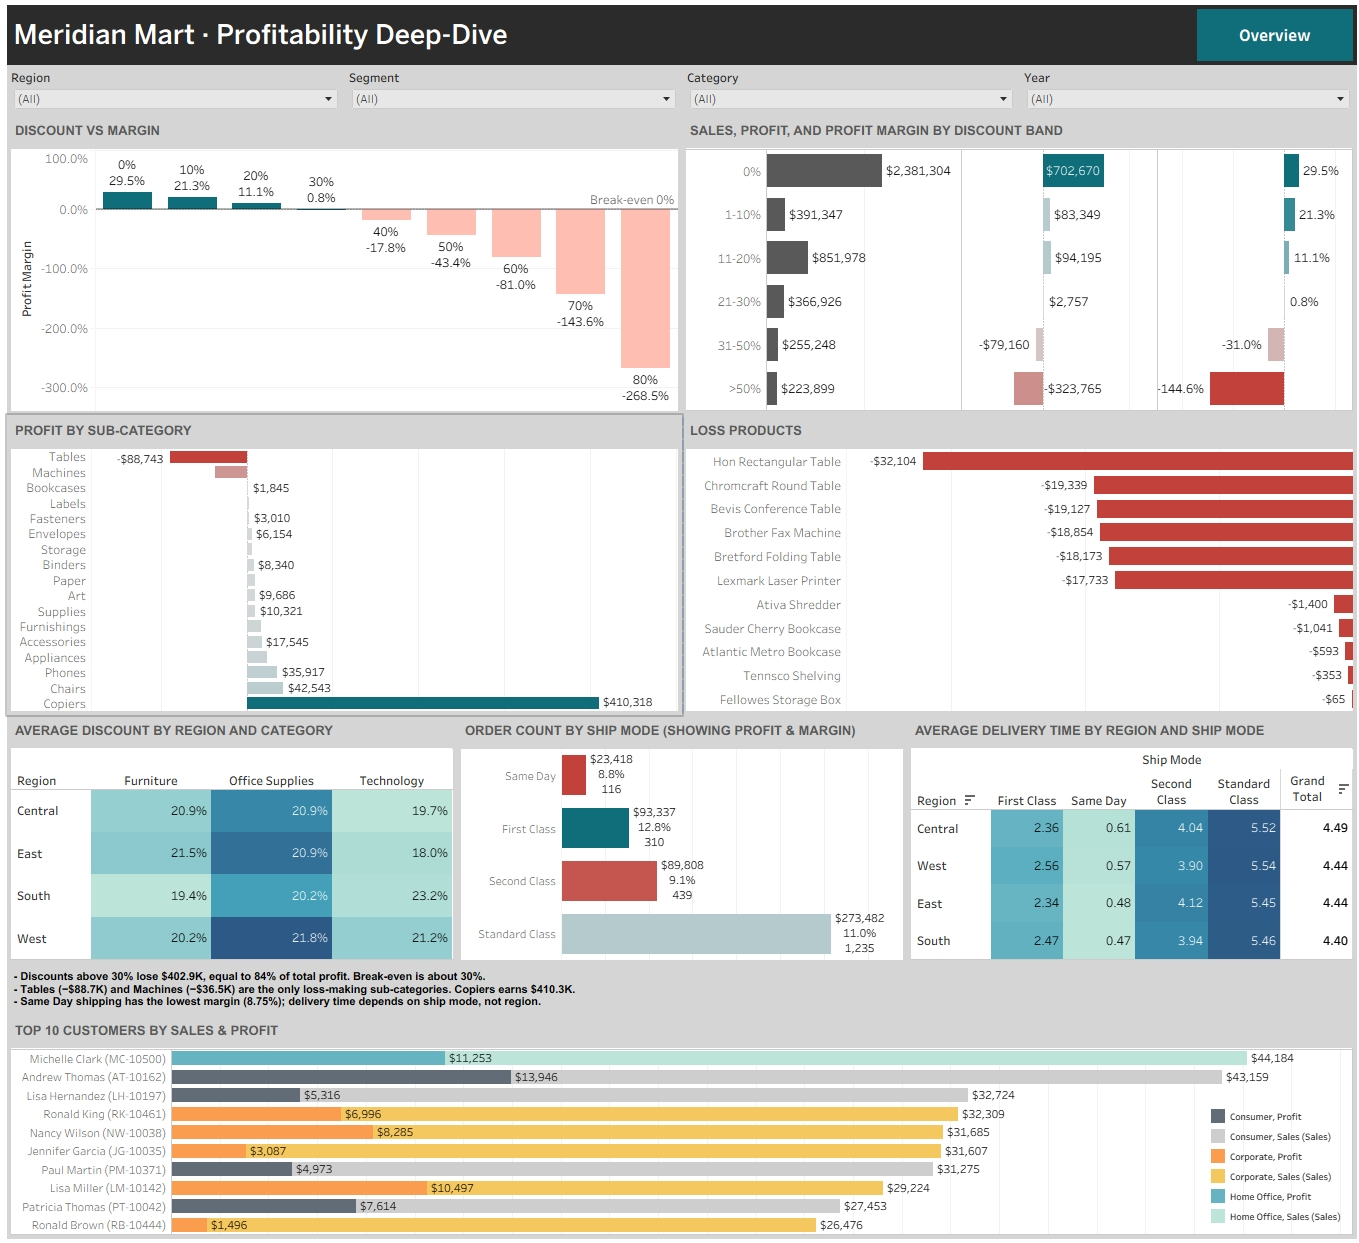

What the dashboard file says about the page in this screenshot:
{"tool":"tableau","page":{"name":"Deep Dive","canvas":[1366,1250],"ordinal":0},"visuals":[{"type":"text","box":[8,8,1186,60]},{"type":"dashboard-object","box":[1194,8,164,60]},{"type":"filter","title":"Discount vs Margin","param":"[federated.1s5vqj20c20fh211pelmb0asn3el].[none:Region:nk]","box":[8,68,338,50]},{"type":"filter","title":"Discount vs Margin","param":"[federated.1s5vqj20c20fh211pelmb0asn3el].[none:Segment:nk]","box":[346,68,338,50]},{"type":"filter","title":"Discount vs Margin","param":"[federated.1s5vqj20c20fh211pelmb0asn3el].[none:Category:nk]","box":[684,68,337,50]},{"type":"filter","title":"Discount Band","param":"[federated.1s5vqj20c20fh211pelmb0asn3el].[tyr:Order Date:ok]","box":[1021,68,337,50]},{"type":"worksheet","title":"Discount vs Margin","mark":"Bar","rows":["Calculation_1557238048464896"],"cols":["Discount (copy)_1557238115659787"],"box":[8,118,675,300]},{"type":"worksheet","title":"Discount Band","mark":"Automatic","rows":["Calculation_1557238048899075"],"cols":["Sales","Profit","Calculation_1557238048464896"],"box":[683,118,675,300]},{"type":"worksheet","title":"Sub-Category Profit","mark":"Bar","rows":["Sub-Category"],"cols":["Profit"],"box":[8,418,675,300]},{"type":"worksheet","title":"Loss Products","mark":"Automatic","rows":["Product Name"],"cols":["Profit"],"box":[683,418,675,300]},{"type":"worksheet","title":"Discount Heatmap","mark":"Square","rows":["Region"],"cols":["Category"],"box":[8,718,450,249]},{"type":"worksheet","title":"Ship Mode","mark":"Bar","rows":["Ship Mode"],"cols":["Calculation_1557238048776193"],"box":[458,718,450,249]},{"type":"worksheet","title":"Delivery Time","mark":"Square","rows":["Region"],"cols":["Ship Mode"],"box":[908,718,450,249]},{"type":"text","box":[8,967,1350,51]},{"type":"worksheet","title":"Top Customers","mark":"Bar","rows":["Calculation_1557238049026053"],"cols":["Sales","Profit"],"box":[8,1018,1350,224]},{"type":"legend","title":"Top Customers","param":"[federated.1s5vqj20c20fh211pelmb0asn3el].[none:Segment:nk]\n[federated.1s5vqj20c2","box":[1209,1109,143,127]}]}

Visuals, with their boxes in screenshot pixels (x1, y1, x2, y2), scaled from the page's 1366x1250 canvas onto the 1359x1243 screenshot:
text: x1=8 y1=8 x2=1188 y2=68
dashboard-object: x1=1188 y1=8 x2=1351 y2=68
"Discount vs Margin" filter: x1=8 y1=68 x2=344 y2=117
"Discount vs Margin" filter: x1=344 y1=68 x2=680 y2=117
"Discount vs Margin" filter: x1=680 y1=68 x2=1016 y2=117
"Discount Band" filter: x1=1016 y1=68 x2=1351 y2=117
"Discount vs Margin" worksheet (Bar marks): x1=8 y1=117 x2=680 y2=416
"Discount Band" worksheet: x1=680 y1=117 x2=1351 y2=416
"Sub-Category Profit" worksheet (Bar marks): x1=8 y1=416 x2=680 y2=714
"Loss Products" worksheet: x1=680 y1=416 x2=1351 y2=714
"Discount Heatmap" worksheet (Square marks): x1=8 y1=714 x2=456 y2=962
"Ship Mode" worksheet (Bar marks): x1=456 y1=714 x2=903 y2=962
"Delivery Time" worksheet (Square marks): x1=903 y1=714 x2=1351 y2=962
text: x1=8 y1=962 x2=1351 y2=1012
"Top Customers" worksheet (Bar marks): x1=8 y1=1012 x2=1351 y2=1235
"Top Customers" legend: x1=1203 y1=1103 x2=1345 y2=1229
